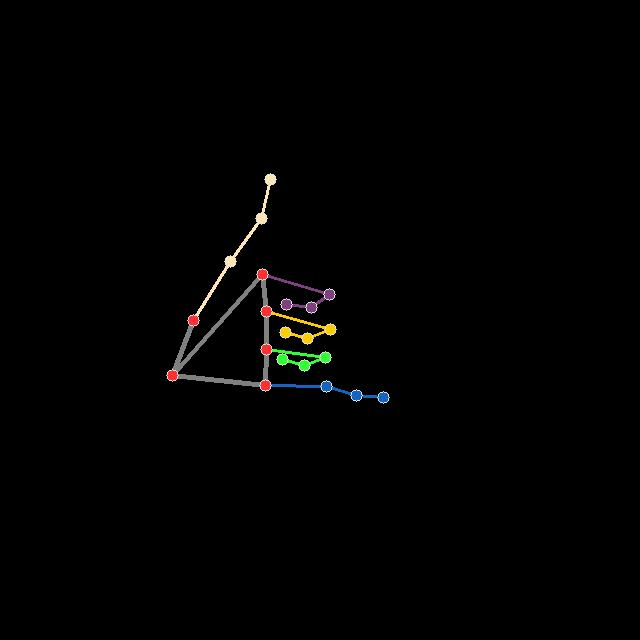skr: (164, 171, 390, 405)
